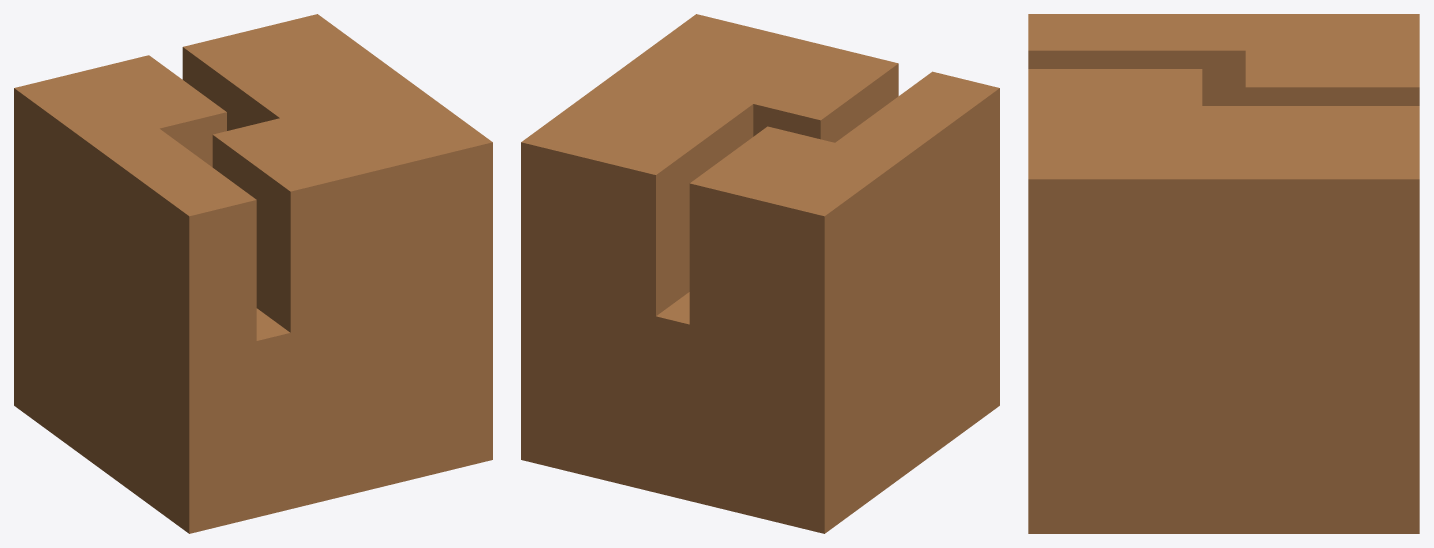
The model's file is Thin_Connect_S(L)_to_M_Model.fbx.
3 renders of one model, left to right at view 1: azimuth 30°, elevation 25°; view 2: azimuth 150°, elevation 25°; view 3: azimuth 270°, elevation 25°, orthographic. The views are drawn at different scales.
Parts seen in each view (by area): view 1: Cube; view 2: Cube; view 3: Cube.
Boxes of the visible parts, x1,y1,x2,y2 form: Cube: (14, 14, 492, 533); Cube: (521, 14, 999, 533); Cube: (1028, 14, 1419, 533).
Bounding box in the file's own units: 100 × 100 × 100.
